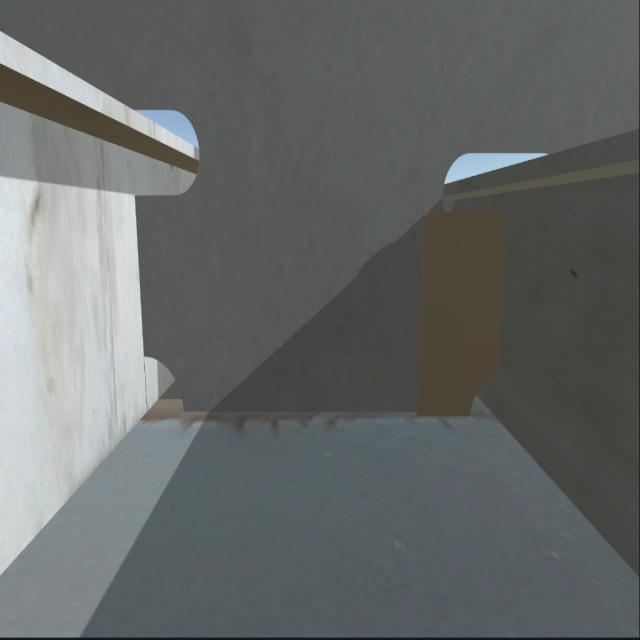fillet_hole: (138, 356, 185, 412), (465, 382, 496, 425)
fillet_yong_jeop_jang: (172, 416, 464, 418)
longi_yong_jeop_jang: (132, 192, 152, 356), (493, 220, 502, 377)
plate_CP01: (420, 217, 507, 419)
